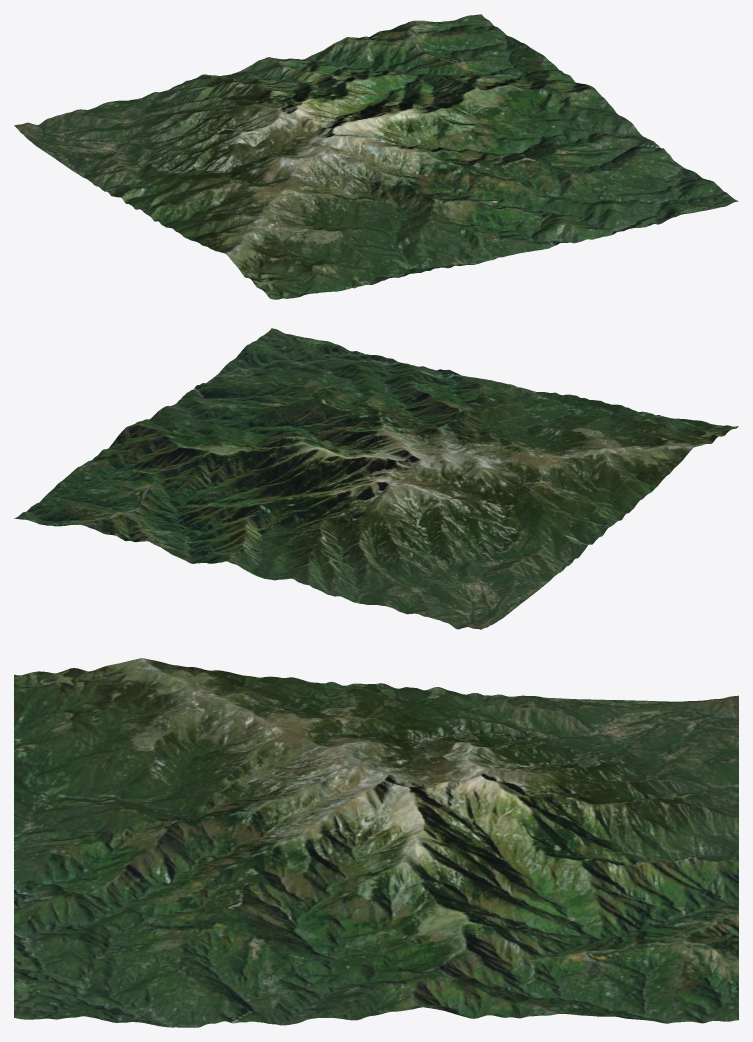
Rendered from Mountain.glb.
The picture shows the model from 3 angles, top to bottom: view 1: azimuth 30°, elevation 25°; view 2: azimuth 150°, elevation 25°; view 3: azimuth 270°, elevation 25°; orthographic projection. The views are drawn at different scales.
Size of the model in its own units: 26972 by 2399 by 25769.
1 material, 1 textured.
